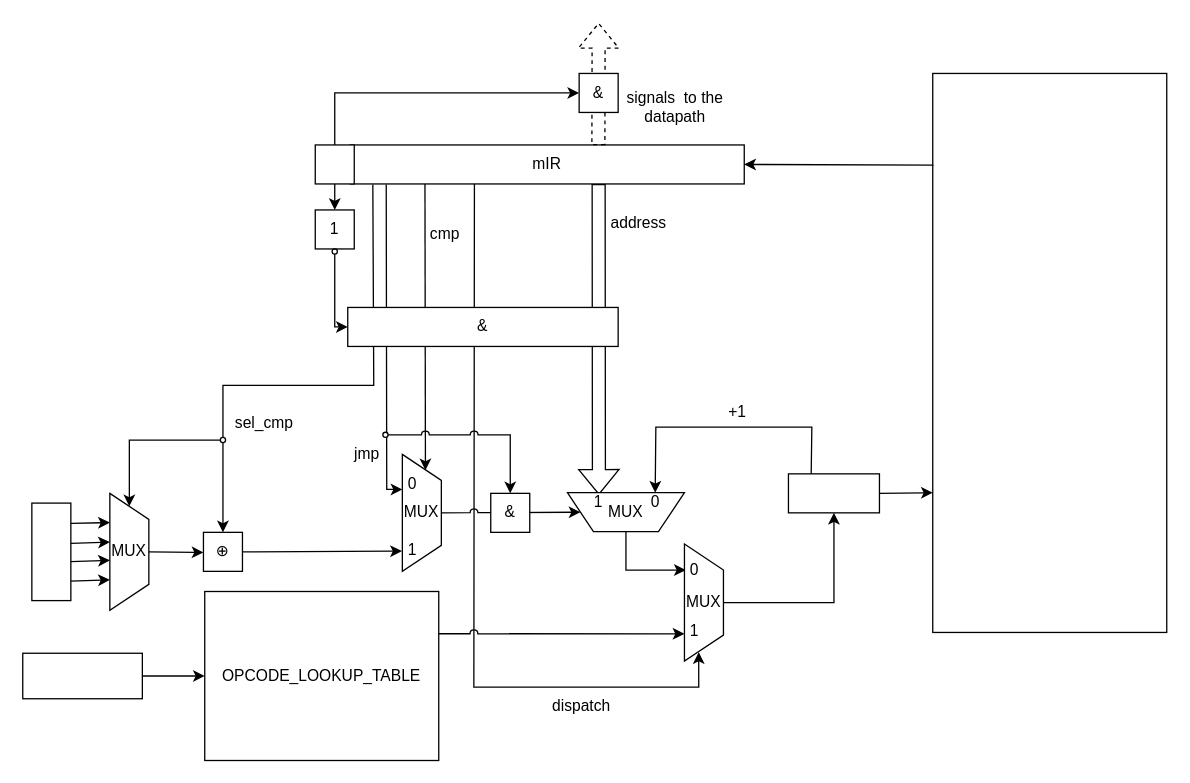
Some shapes in this 1190 by 783 pixel diagram are drawn without their labels. The centre of each missing label's shape, as x and y in pixels:
DR: (81,675)
MICROCODE_MEMORY: (1049,352)
mPC: (833,493)
N Z V C: (51,551)
type: (334,164)
